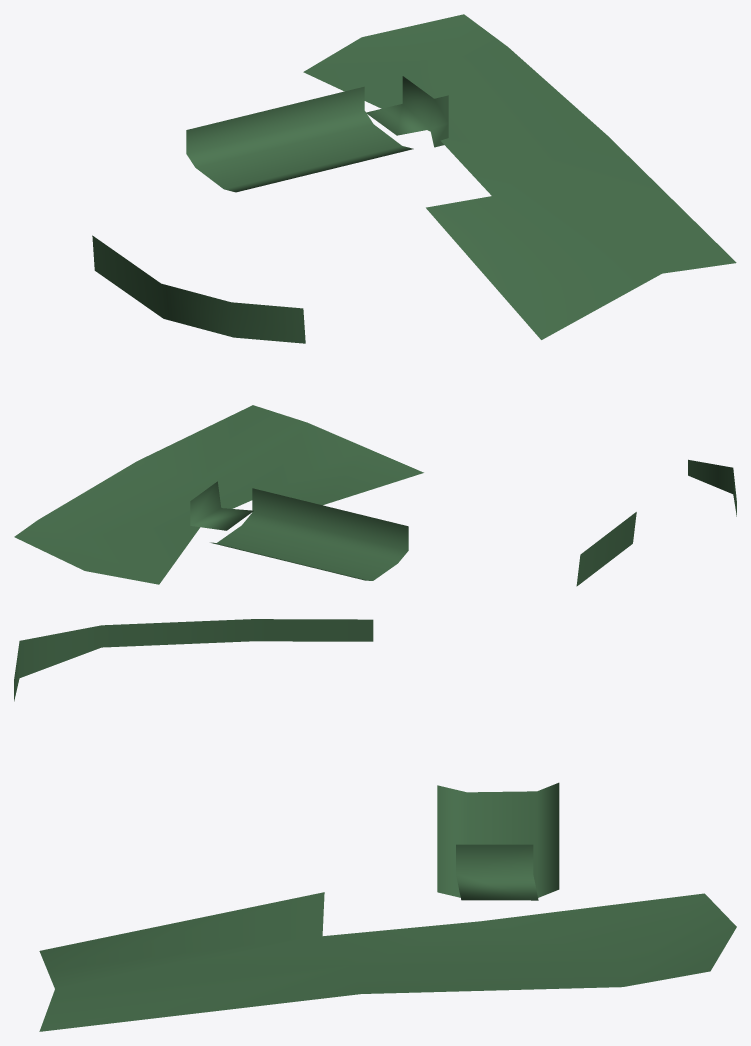
Rendered from InvisibleWalls.glb.
3 renders of one model, top to bottom at view 1: azimuth 30°, elevation 25°; view 2: azimuth 150°, elevation 25°; view 3: azimuth 270°, elevation 25°, orthographic. The views are drawn at different scales.
Parts seen in each view (by area): view 1: pix.png__; view 2: pix.png__; view 3: pix.png__.
Part boxes in pixels (x1=…): pix.png__: x1=92, y1=14, x2=736, y2=343; pix.png__: x1=14, y1=405, x2=736, y2=586; pix.png__: x1=14, y1=619, x2=736, y2=1031.
Size of the model in its own units: 345 by 55.44 by 294.
Materials: 1 (1 with a texture image).
